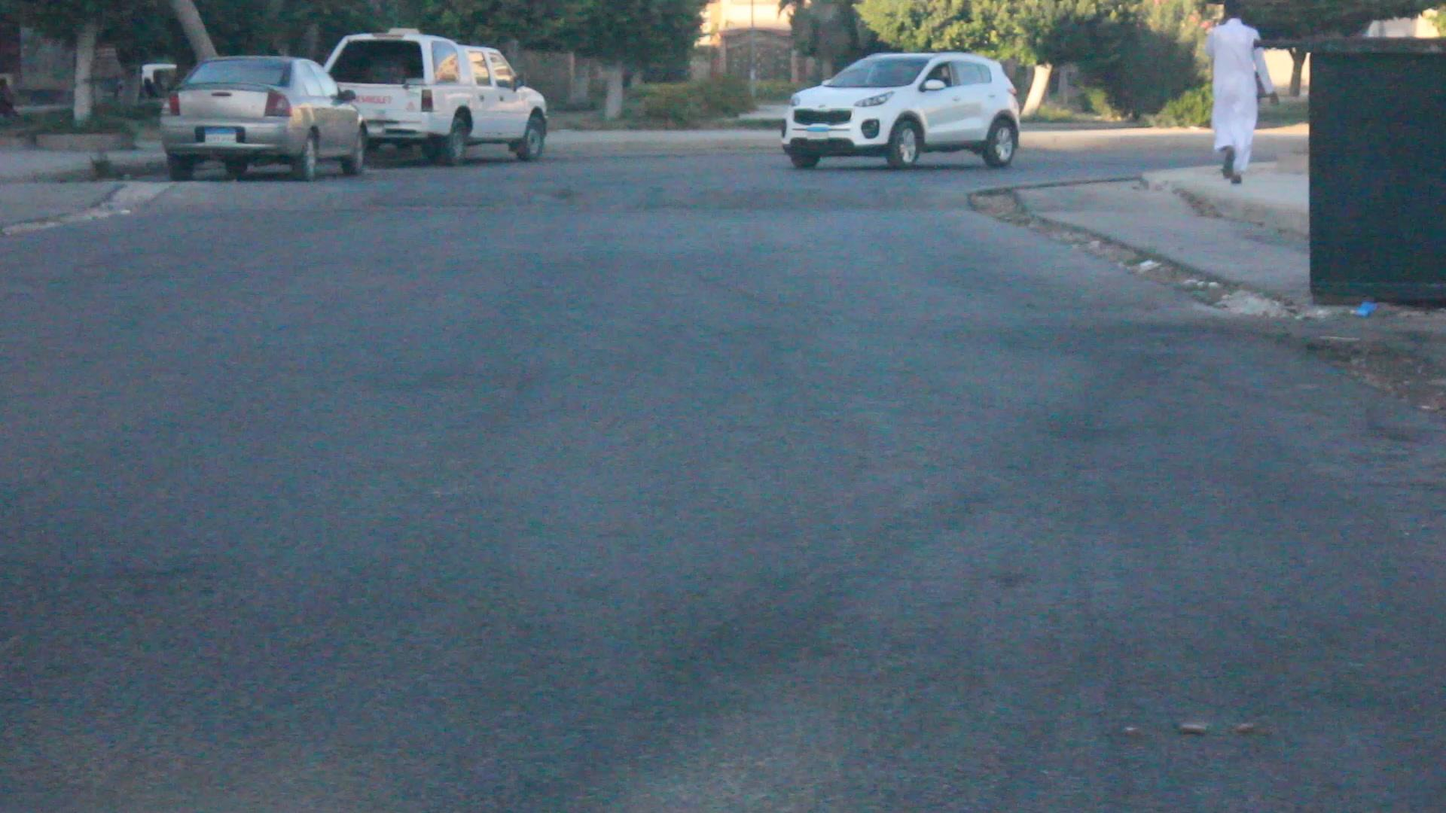Bump: (126, 177, 1004, 216)
